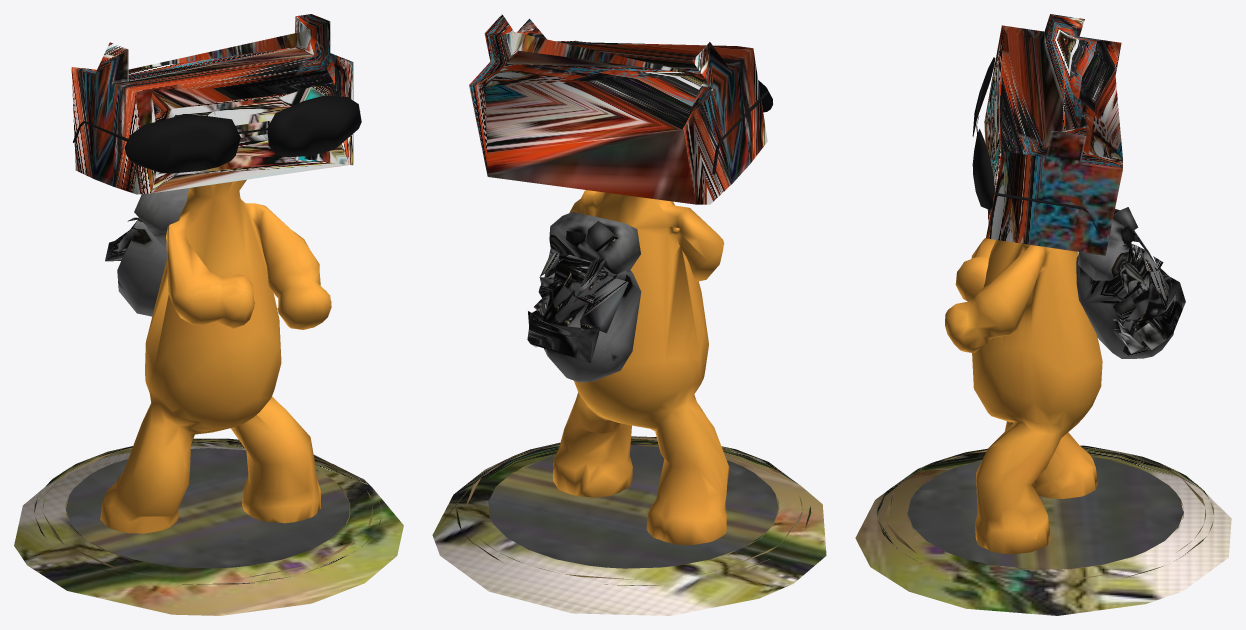
3 renders of one model, left to right at view 1: azimuth 30°, elevation 25°; view 2: azimuth 150°, elevation 25°; view 3: azimuth 270°, elevation 25°, orthographic. The views are drawn at different scales.
Bounding box in the file's own units: 1.44 × 2.03 × 1.43.
6 materials, 5 textured.
